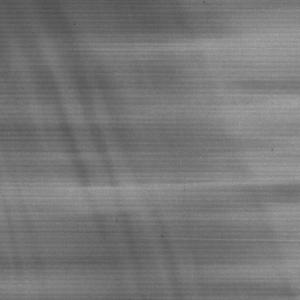Wrinkle: (1, 1, 209, 300)
